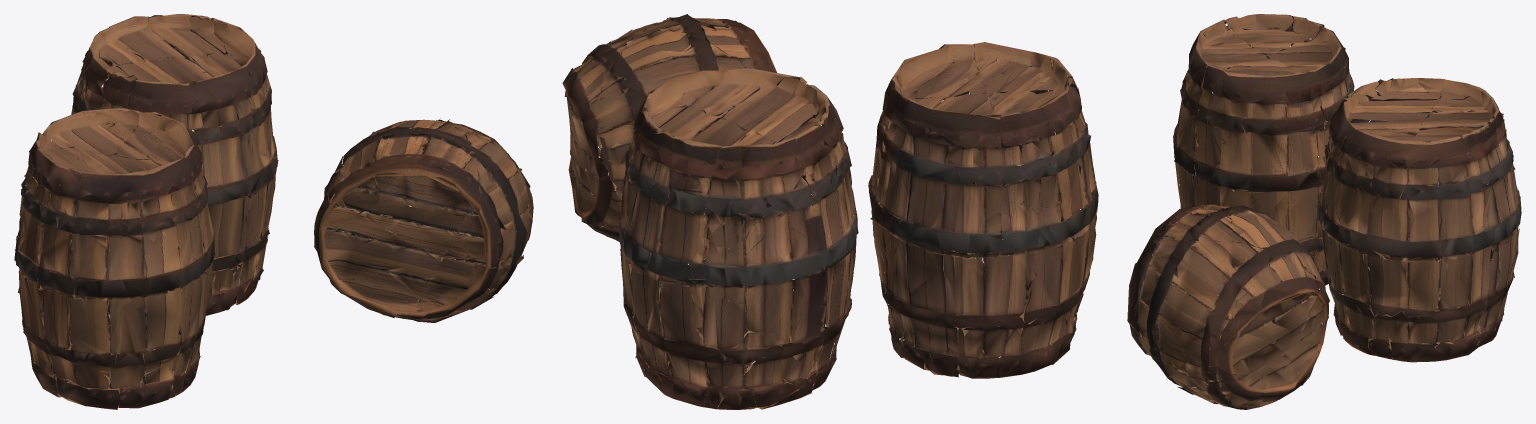
File: barrel-group.glb
3 renders of one model, left to right at view 1: azimuth 30°, elevation 25°; view 2: azimuth 150°, elevation 25°; view 3: azimuth 270°, elevation 25°, orthographic. The views are drawn at different scales.
Parts seen in each view (by area): view 1: Mesh_0; view 2: Mesh_0; view 3: Mesh_0.
Part boxes in pixels (x1,y1,x2,y2): Mesh_0: (14, 14, 533, 409); Mesh_0: (562, 14, 1098, 409); Mesh_0: (1127, 14, 1521, 409).
Bounding box in the file's own units: 1.9 × 0.9081 × 1.44.
Materials: 1 (1 with a texture image).
